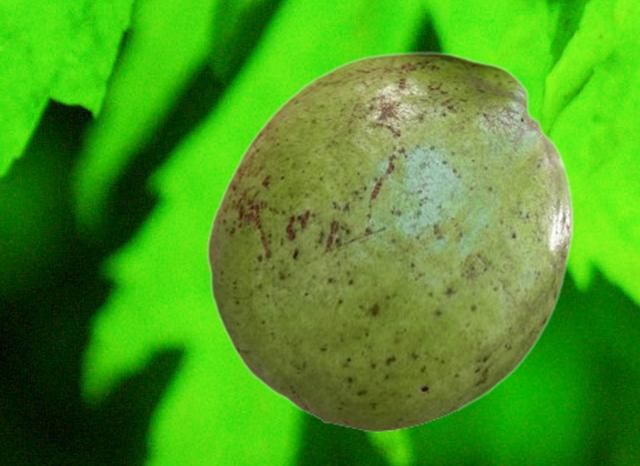guava: (205, 51, 573, 431)
